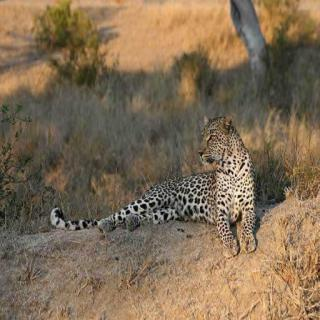Leopard: (45, 95, 275, 256)
